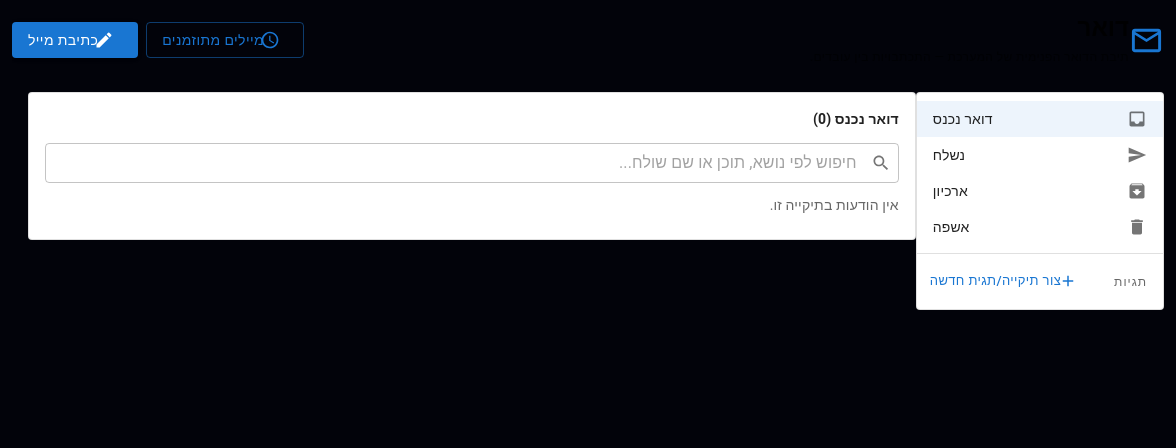
Scenario: Emails › read receipts › clicking the icon opens a popover listing each recipient's read status
Click the button with test id "email-folder-SENT": click(949, 155) left=933, top=145, right=1147, bottom=165
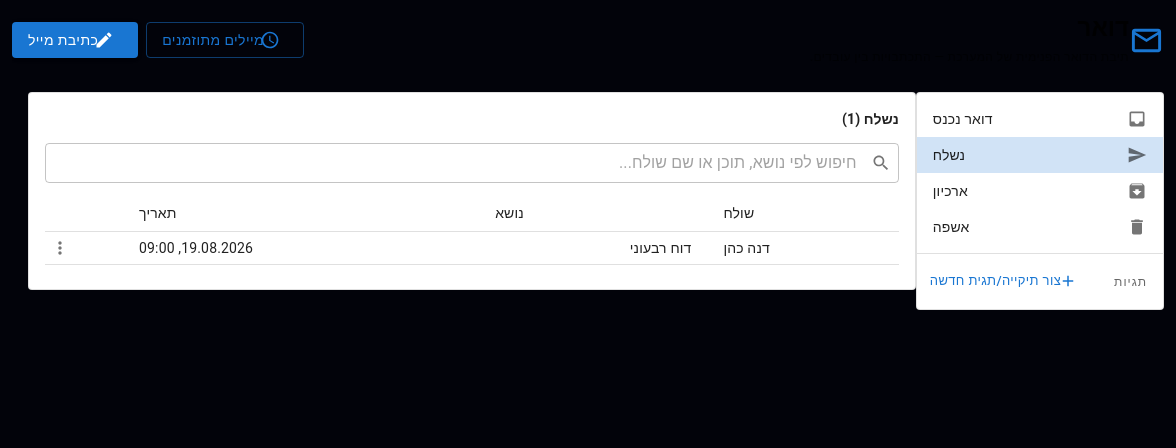
Click the row with test id "email-row-30": click(472, 248) left=45, top=232, right=899, bottom=264
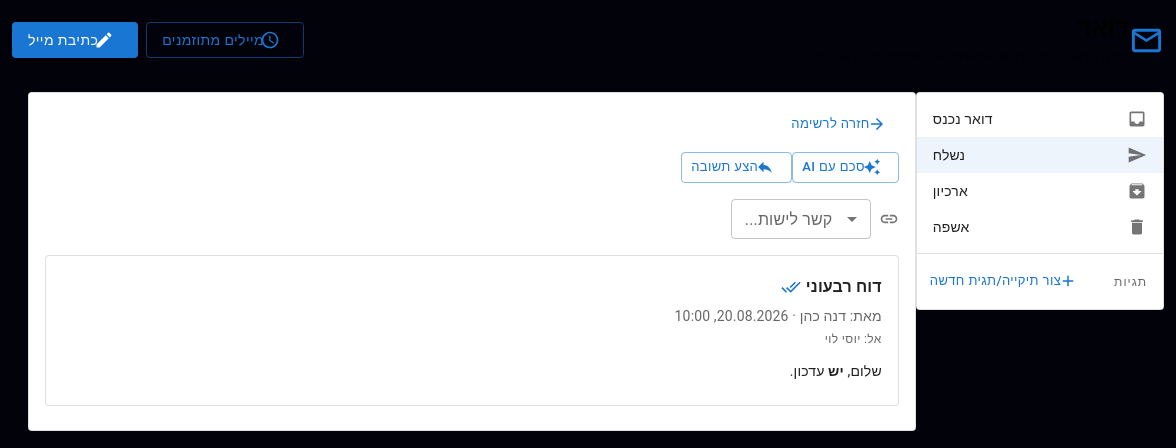
Click the button with test id "read-receipt-icon-30": click(791, 286) left=776, top=272, right=806, bottom=302
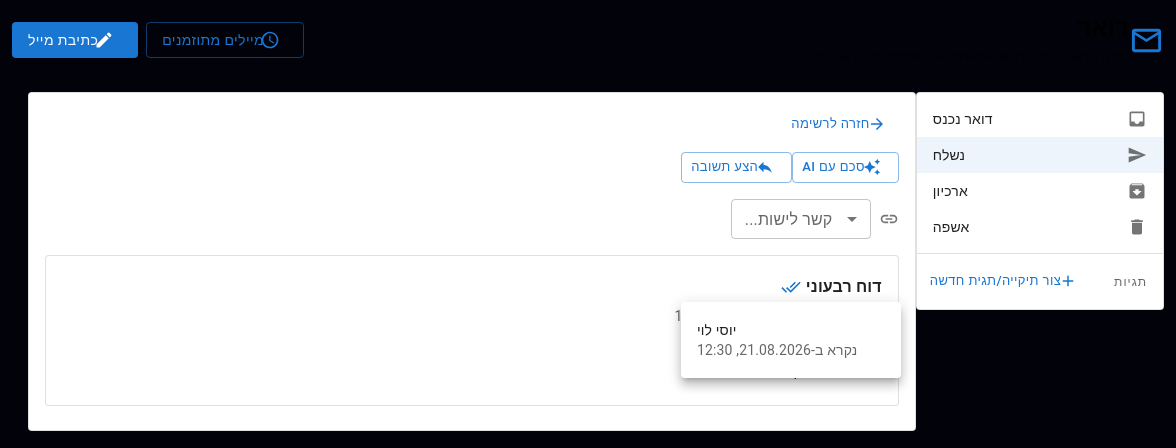
Now the text "יוסי לוי" is shown, box left=697, top=322, right=736, bottom=338
